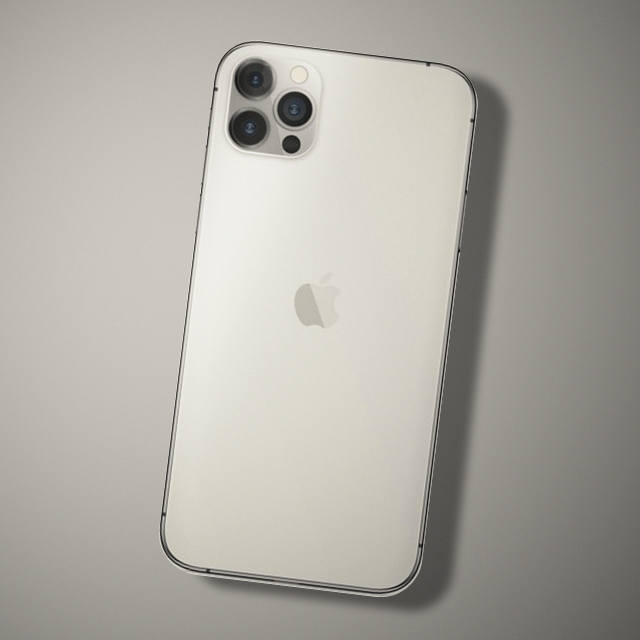iphone_12pro_silver: (159, 33, 511, 640), (214, 45, 329, 167)
